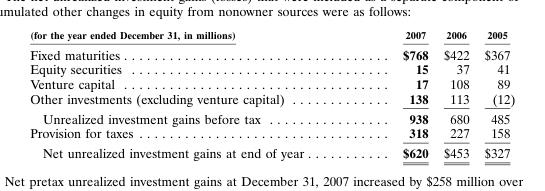table: (29, 28, 514, 160)
table column: (29, 28, 352, 160), (352, 28, 435, 160), (435, 28, 476, 160), (476, 28, 514, 160)
table column header: (29, 28, 514, 43)
table row: (29, 43, 514, 61), (29, 90, 514, 108), (29, 142, 514, 160), (29, 108, 514, 125), (29, 125, 514, 142), (29, 28, 514, 43), (29, 61, 514, 76), (29, 76, 514, 90)
